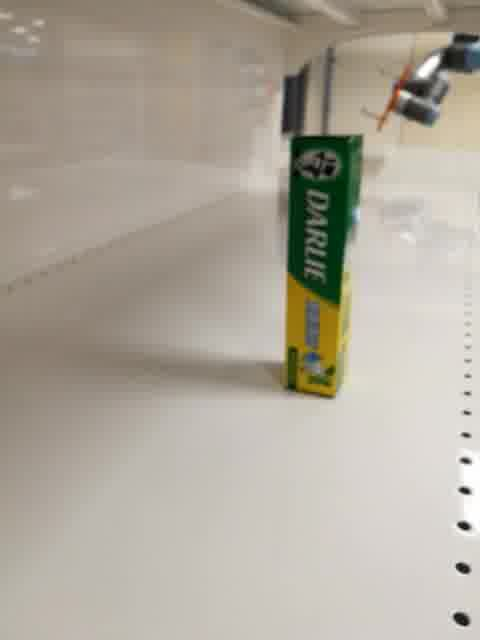toothpaste: (279, 134, 366, 401)
